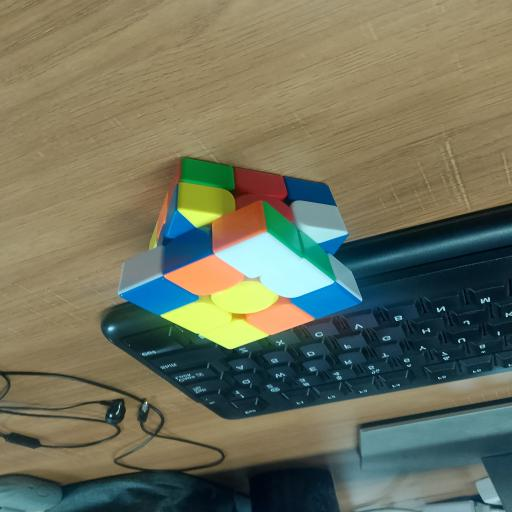cubic: (97, 151, 379, 353)
